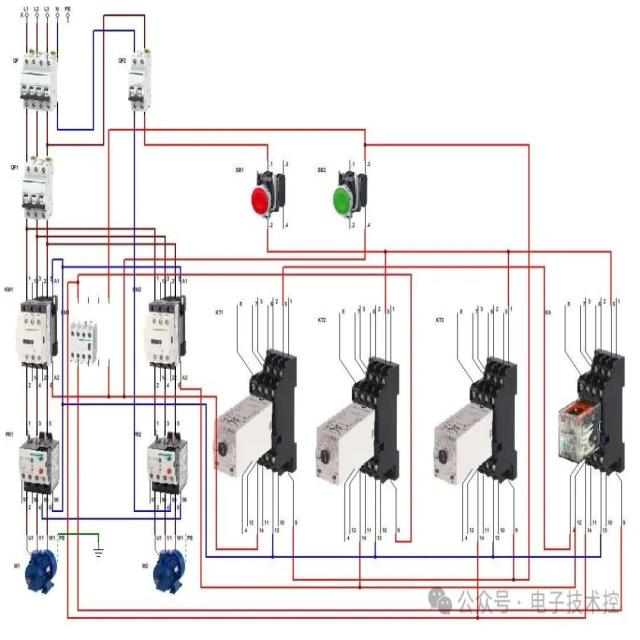electronics: (316, 357, 399, 482), (214, 350, 296, 476), (434, 357, 516, 482), (559, 350, 623, 474), (470, 357, 517, 480), (249, 350, 296, 472), (578, 350, 624, 474), (353, 357, 399, 480), (316, 403, 375, 483), (434, 403, 492, 482), (217, 395, 272, 475), (143, 296, 185, 366), (17, 296, 57, 366), (17, 297, 57, 366), (558, 401, 600, 462), (148, 431, 187, 493), (20, 432, 59, 493), (20, 49, 57, 109), (16, 304, 51, 365), (22, 156, 53, 219), (332, 170, 367, 216), (332, 172, 367, 215), (251, 171, 284, 215), (153, 548, 185, 593), (251, 173, 284, 216), (25, 548, 56, 593), (129, 49, 151, 110), (25, 549, 56, 592), (69, 321, 97, 364), (428, 587, 452, 612)
